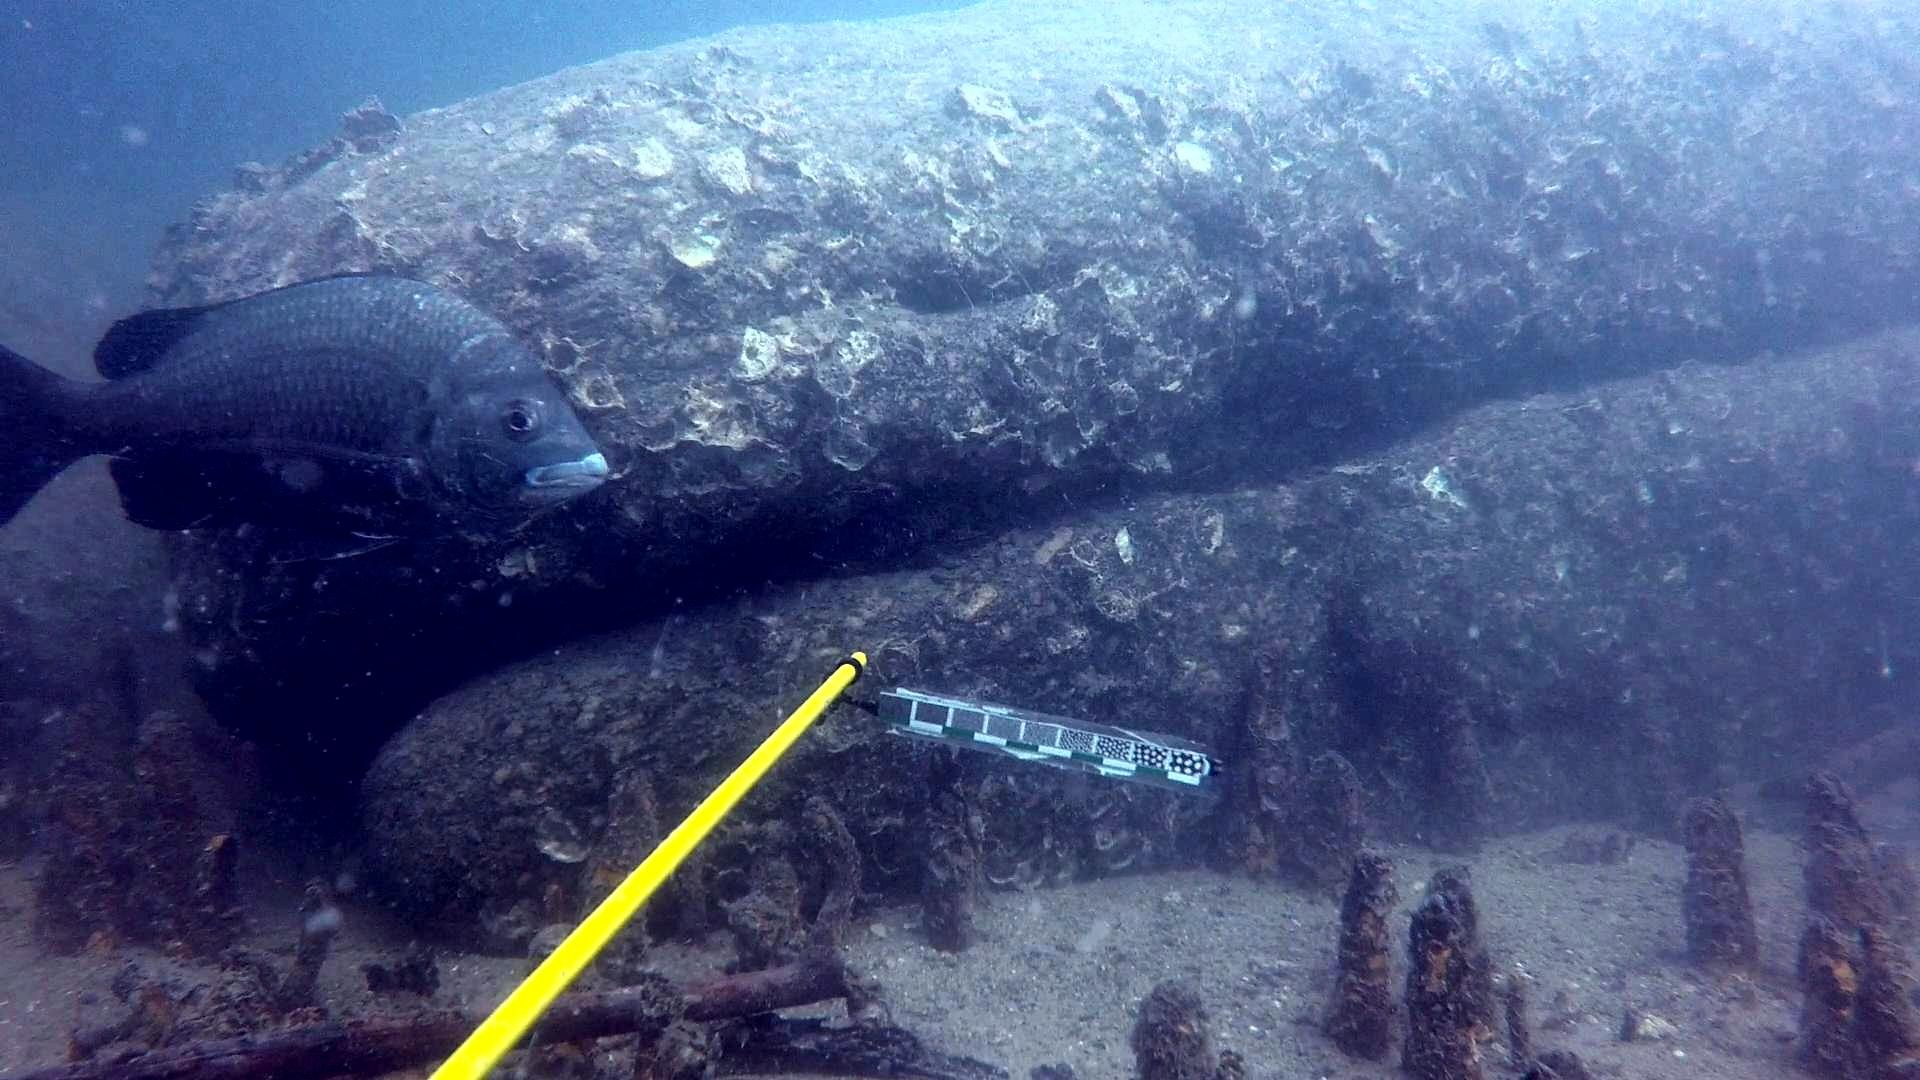acanthopagrus palmaris: (5, 260, 612, 585)
